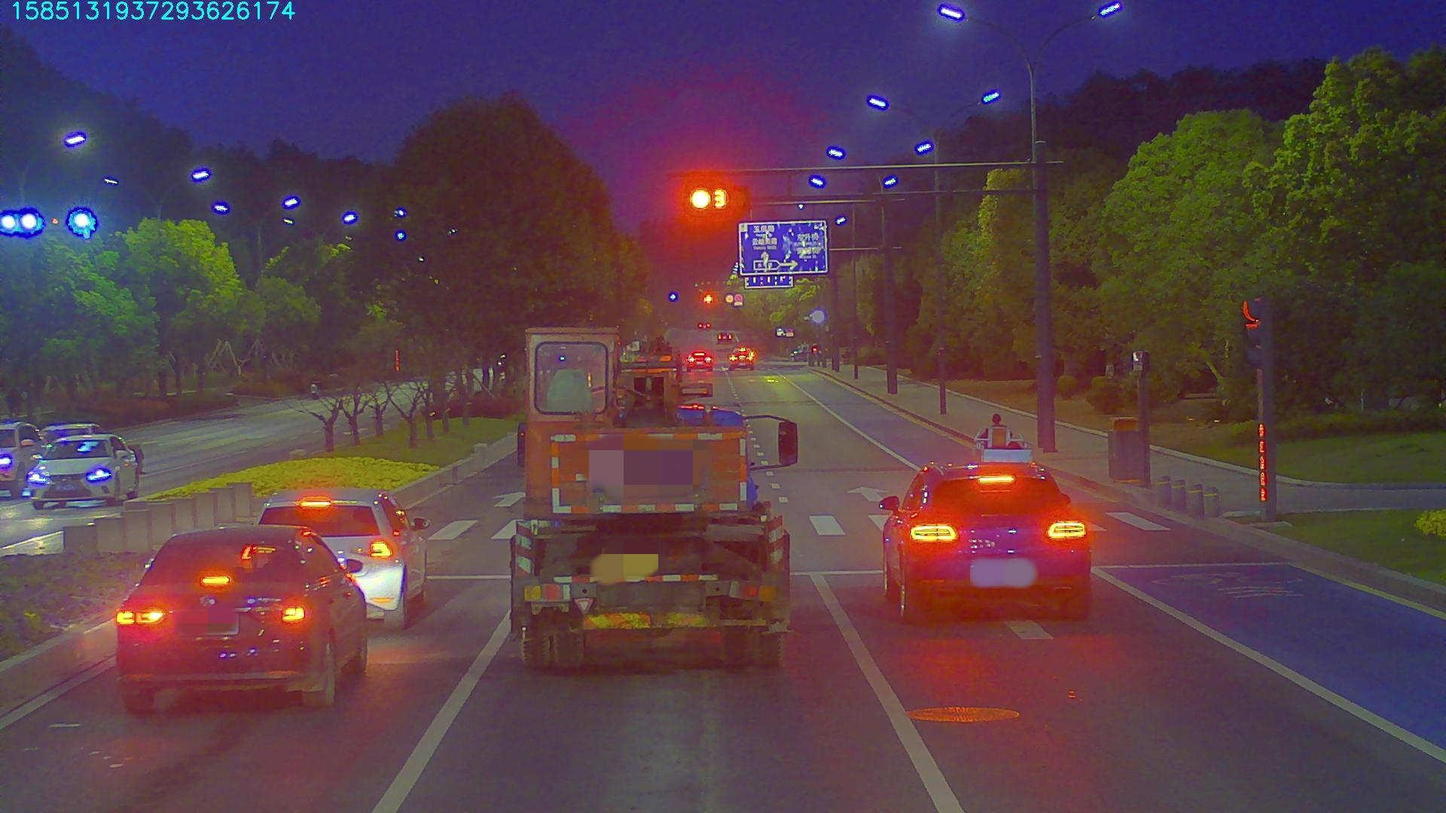red: (673, 177, 740, 221)
